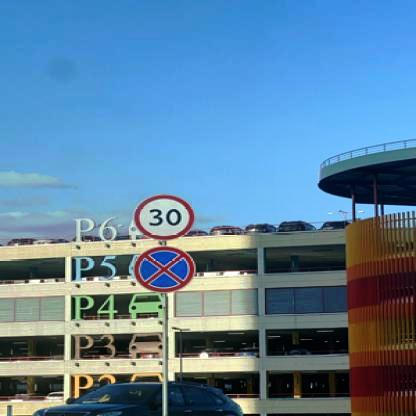Speed Limit -30-: (132, 192, 196, 242)
